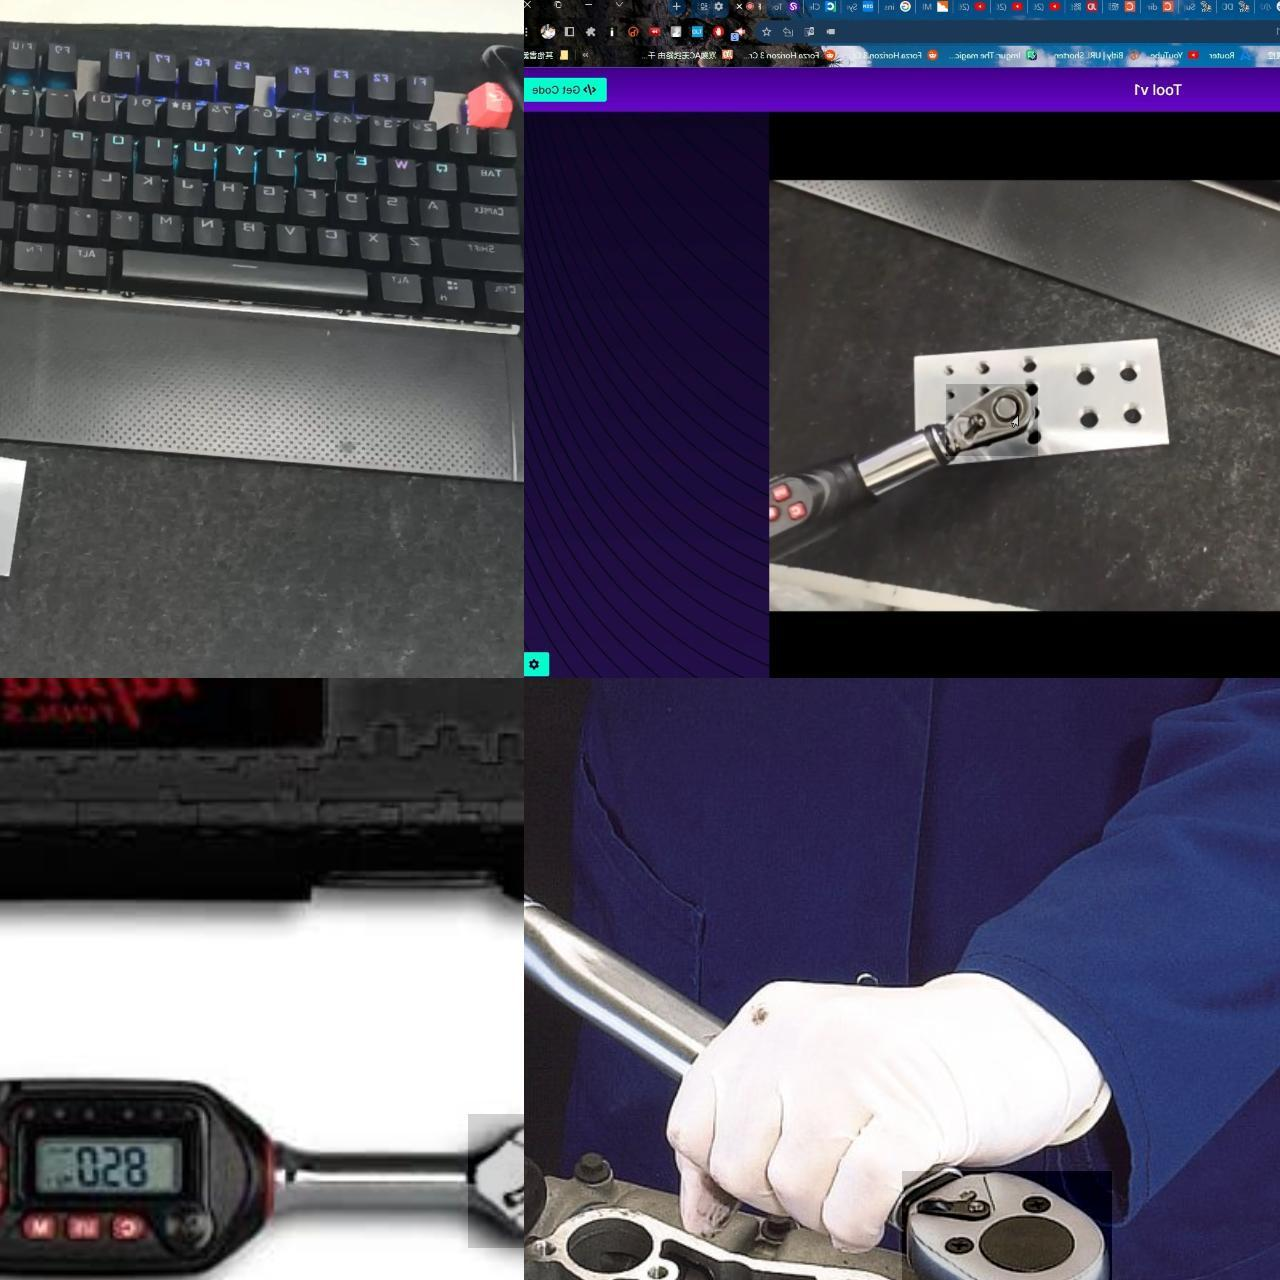Tool: (901, 1170, 1111, 1280), (467, 1113, 524, 1247), (945, 383, 1037, 455)
